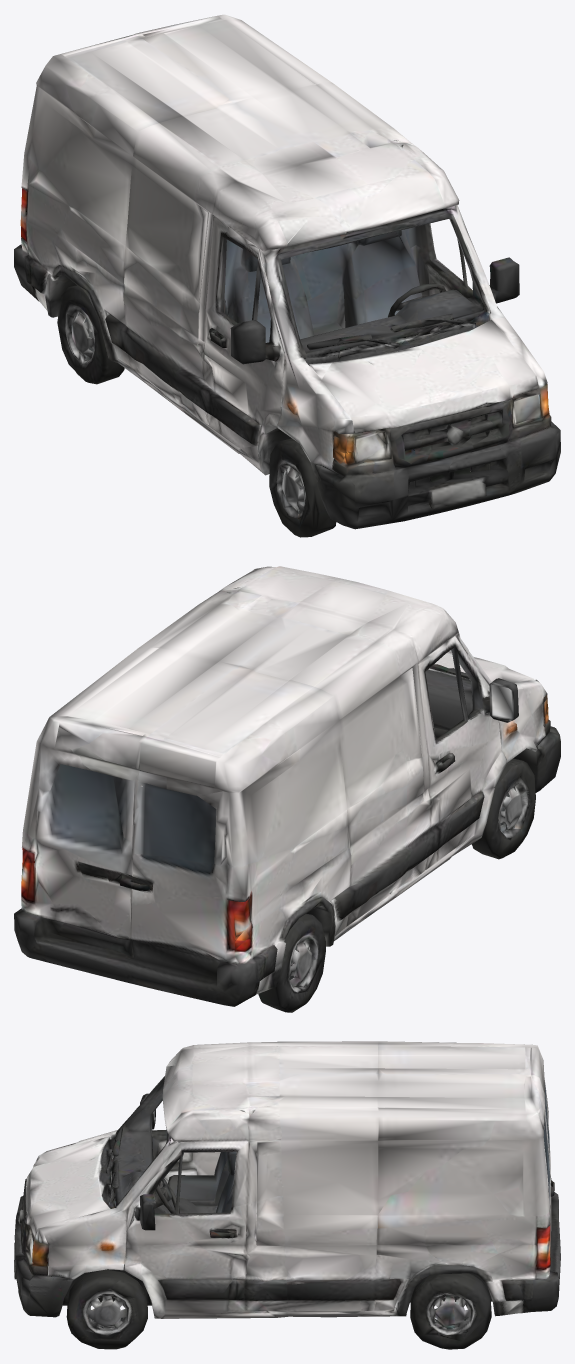
Rendered from veh-van.glb.
3 views of the same model, one above another, from view 1: azimuth 30°, elevation 25°; view 2: azimuth 150°, elevation 25°; view 3: azimuth 270°, elevation 25° (orthographic). The views are drawn at different scales.
Visible parts, largest first — view 1: tripo_node_20acd2cc-a68a-4087-9120-69a39a6957f4; view 2: tripo_node_20acd2cc-a68a-4087-9120-69a39a6957f4; view 3: tripo_node_20acd2cc-a68a-4087-9120-69a39a6957f4.
Boxes of the visible parts, left/top/right/bottom form: tripo_node_20acd2cc-a68a-4087-9120-69a39a6957f4: left=14, top=14, right=560, bottom=537; tripo_node_20acd2cc-a68a-4087-9120-69a39a6957f4: left=14, top=566, right=560, bottom=1012; tripo_node_20acd2cc-a68a-4087-9120-69a39a6957f4: left=14, top=1041, right=560, bottom=1349.
Bounding box in the file's own units: 0.4735 × 0.4587 × 0.9791.
Materials: 1 (1 with a texture image).
